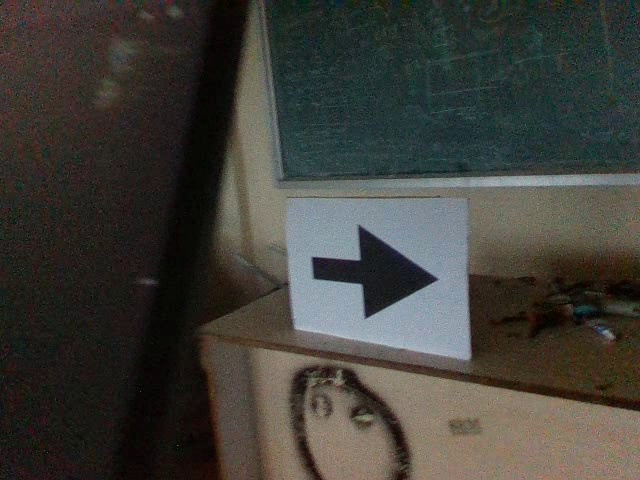Right: (303, 219, 447, 329)
